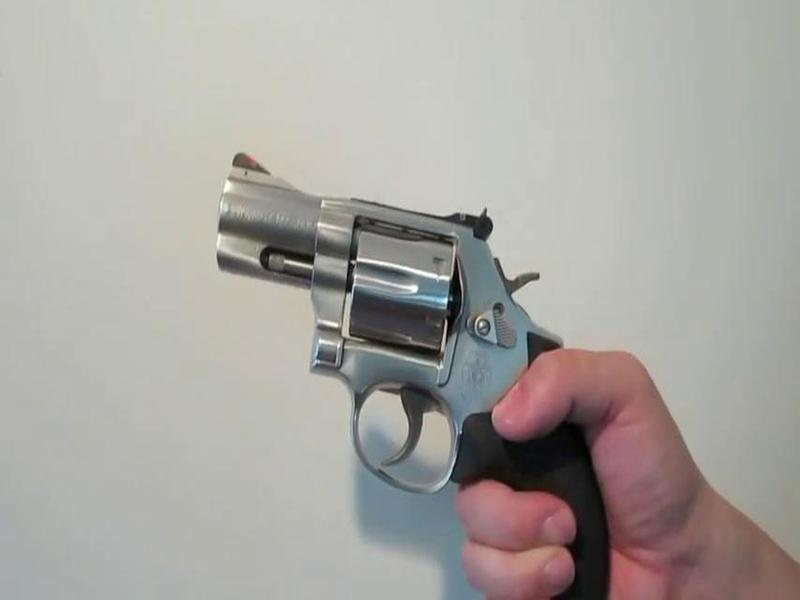Revolver: (205, 123, 659, 600)
